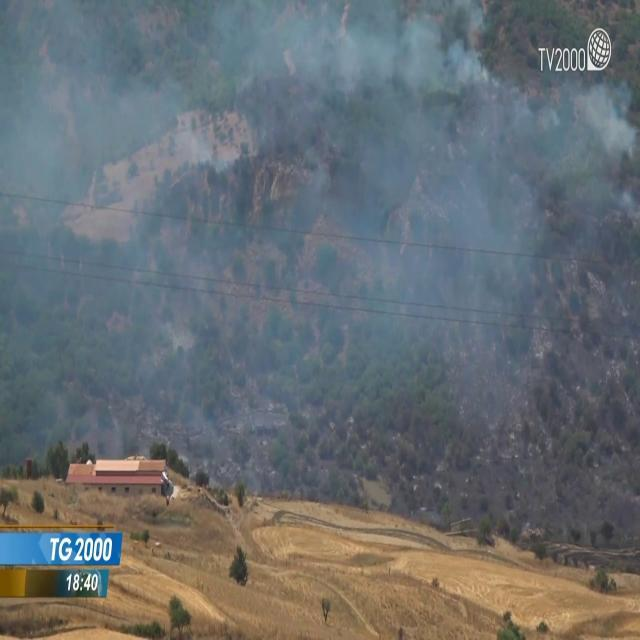Smoke: (2, 1, 638, 500)
